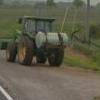Tractor: (9, 9, 76, 71)
